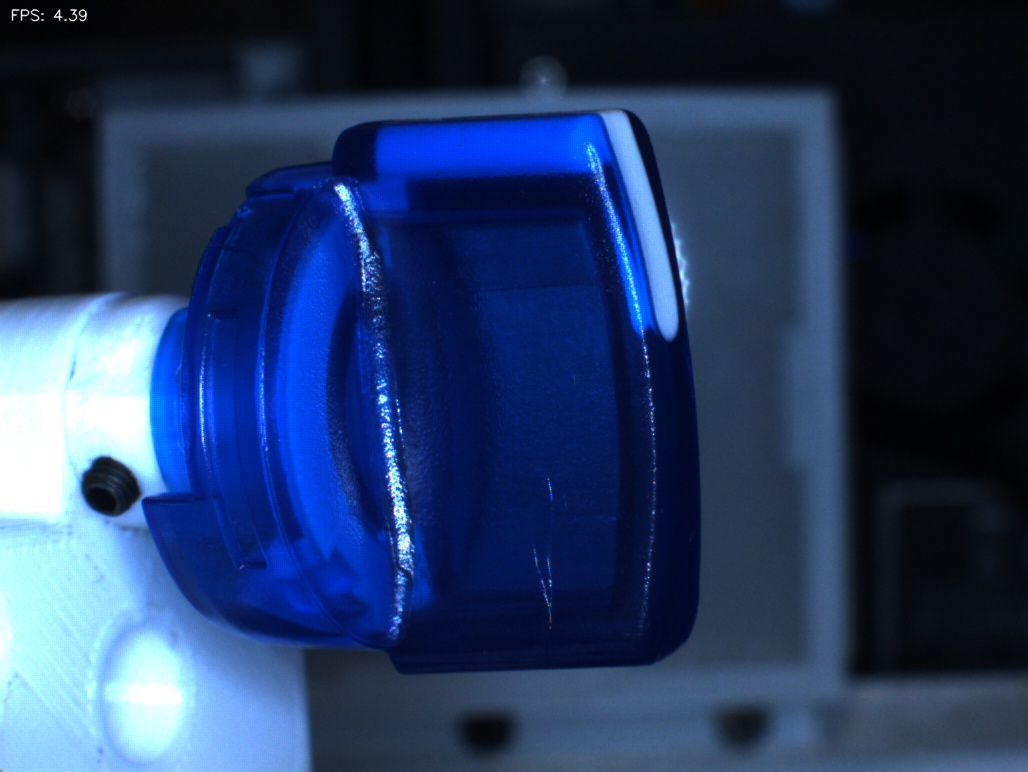Givrage: (512, 463, 593, 652)
